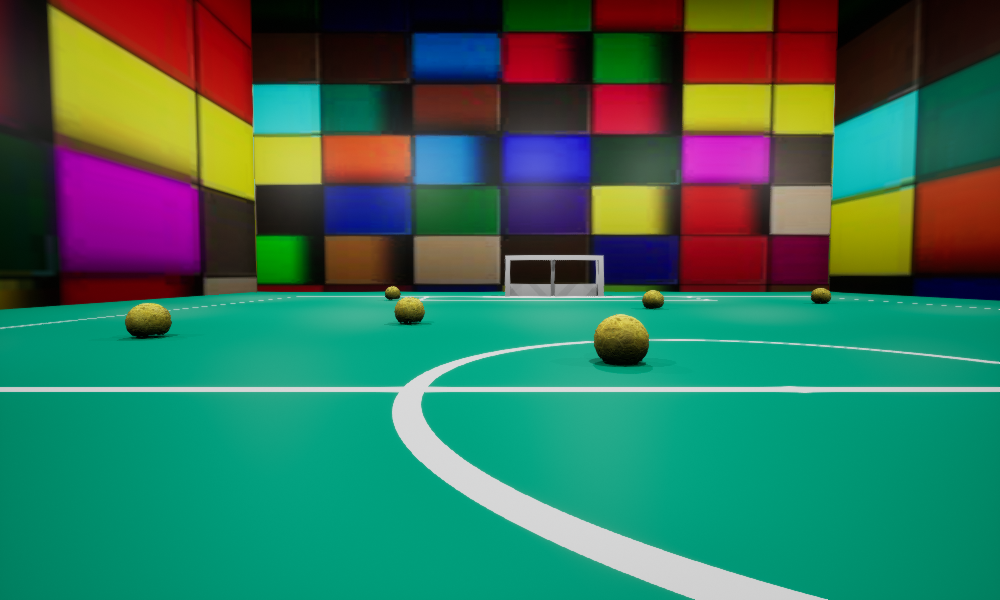b: (594, 314, 648, 364), (125, 303, 171, 337), (394, 297, 424, 323), (642, 290, 663, 308), (811, 288, 830, 303), (385, 286, 400, 299)
g: (505, 255, 603, 295)
